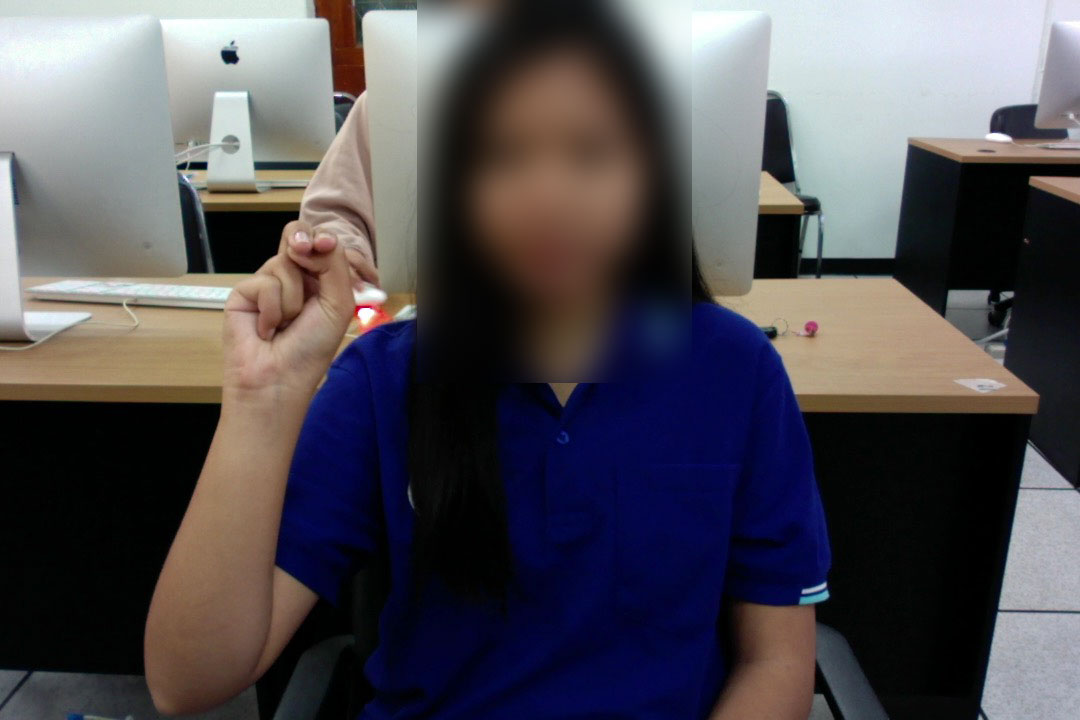nor: (214, 212, 365, 438)
